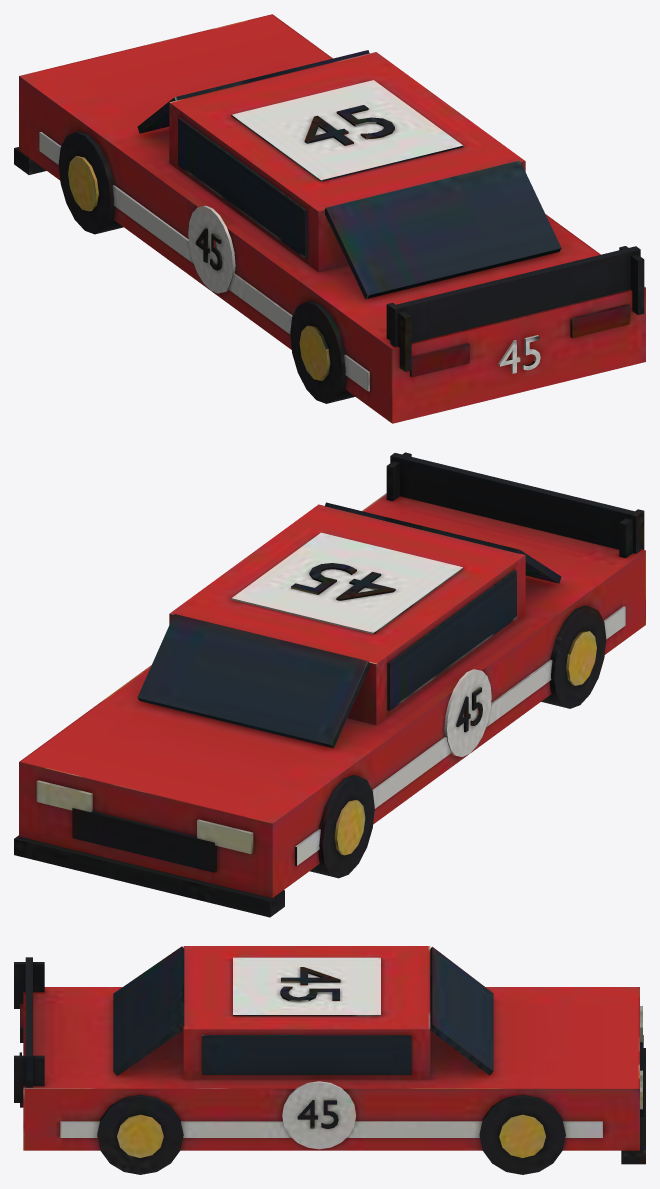
File: stock_car.glb
The picture shows the model from 3 angles, top to bottom: view 1: azimuth 30°, elevation 25°; view 2: azimuth 150°, elevation 25°; view 3: azimuth 270°, elevation 25°; orthographic projection. The views are drawn at different scales.
Parts seen in each view (by area): view 1: stock_car; view 2: stock_car; view 3: stock_car.
Part boxes in pixels (bbox=[...]): stock_car: bbox=[14, 14, 645, 423]; stock_car: bbox=[14, 452, 645, 917]; stock_car: bbox=[14, 946, 645, 1174].
Bounding box in the file's own units: 2.08 × 1.23 × 5.12.
Materials: 1 (1 with a texture image).
